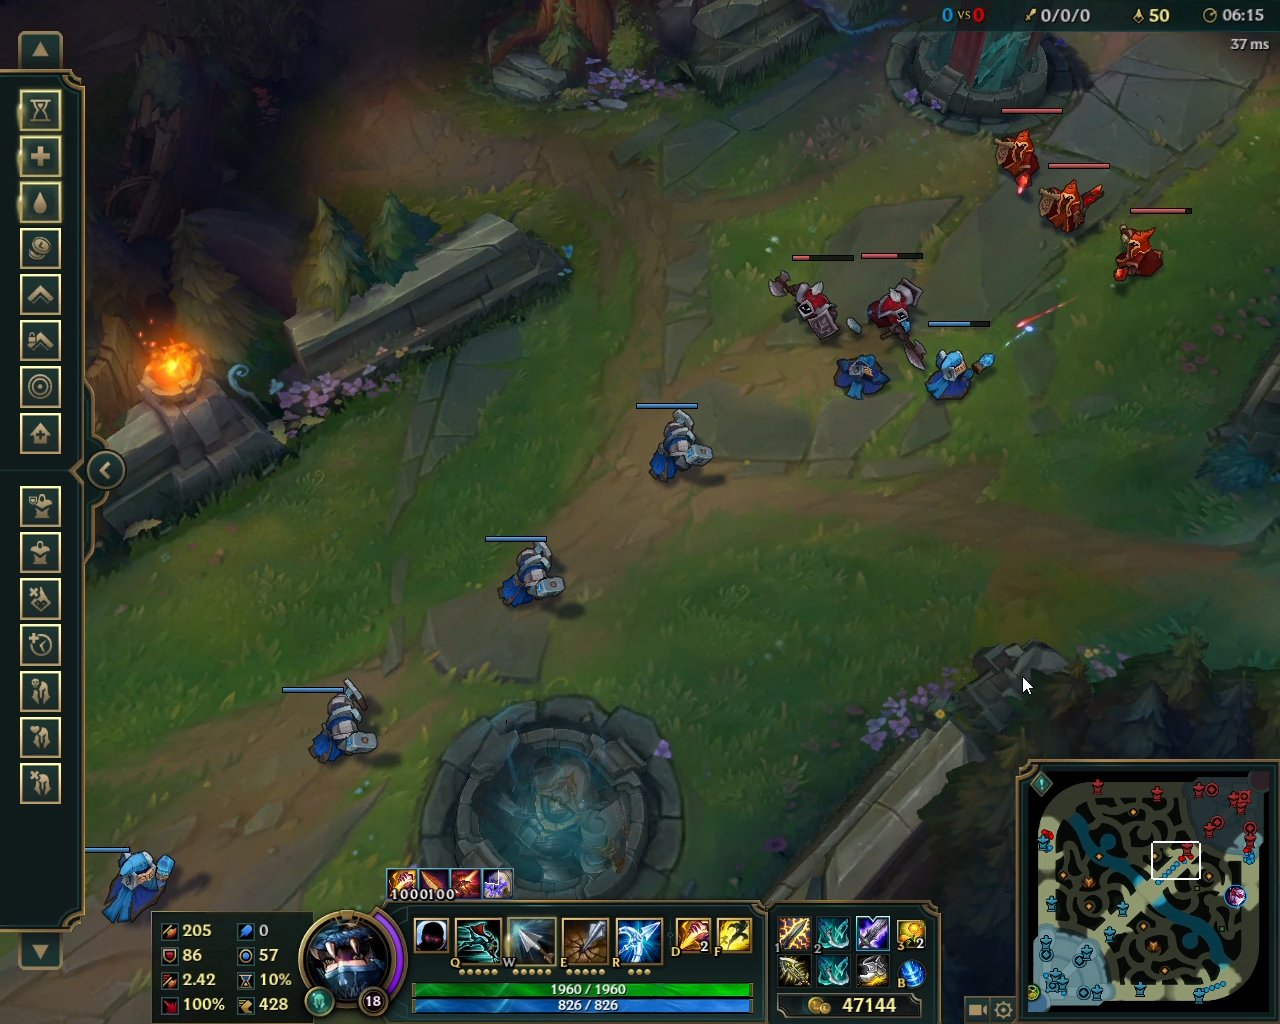EnemyMinion: (764, 254, 854, 343), (860, 251, 925, 369), (1106, 206, 1193, 288), (990, 107, 1064, 194), (1034, 162, 1112, 236)
